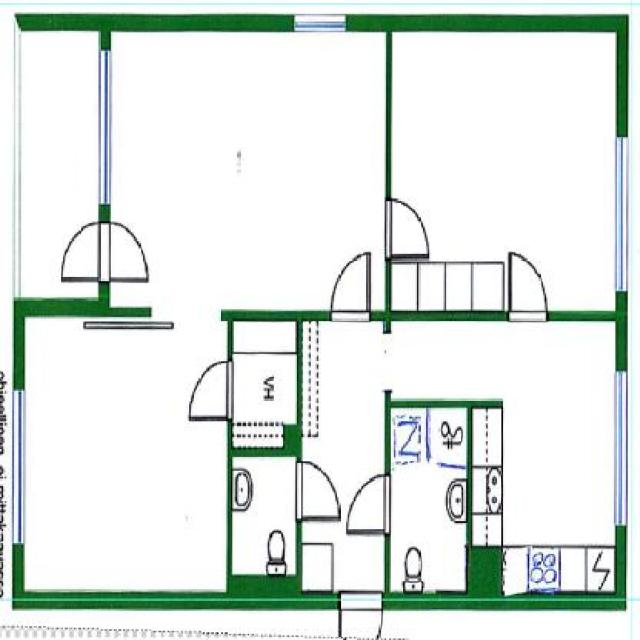door: (56, 219, 152, 283), (188, 348, 235, 430), (508, 252, 552, 330), (343, 474, 392, 541), (332, 252, 376, 326), (383, 195, 432, 260), (294, 463, 338, 528), (335, 587, 387, 640)
window: (614, 135, 629, 291), (616, 374, 630, 526), (97, 51, 109, 206), (292, 12, 350, 36), (15, 389, 23, 548)
zone: (302, 320, 616, 594), (115, 36, 383, 310), (392, 29, 614, 309), (25, 314, 223, 594), (20, 28, 97, 300), (388, 411, 468, 589), (234, 318, 297, 449), (234, 457, 295, 574)
